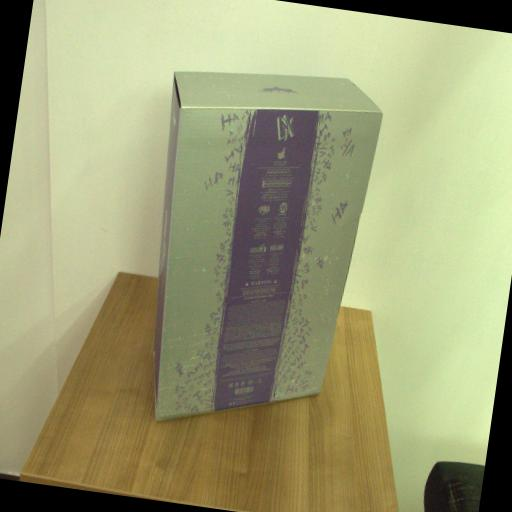Joker: (126, 56, 386, 448)
